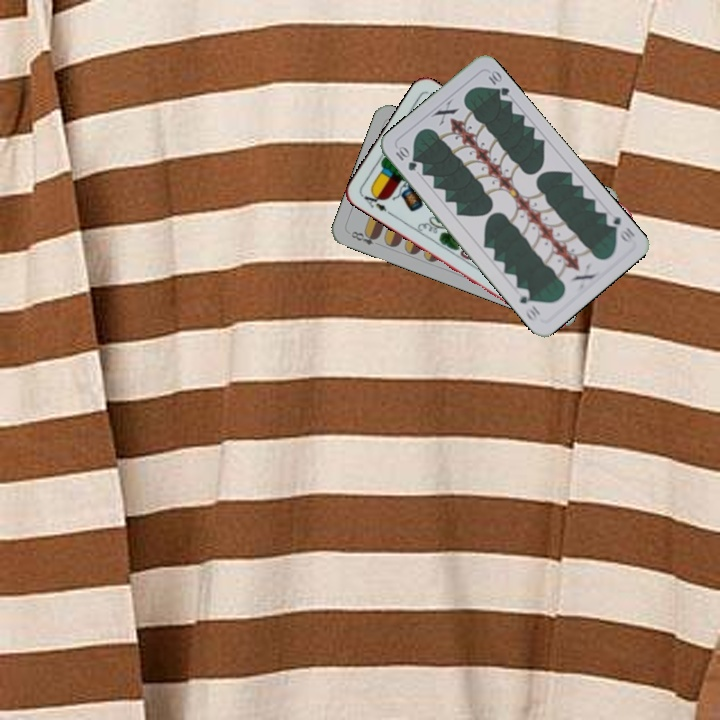E8: (347, 227, 381, 248)
EA: (358, 187, 394, 218)
G10: (601, 209, 638, 245), (391, 142, 420, 174)
